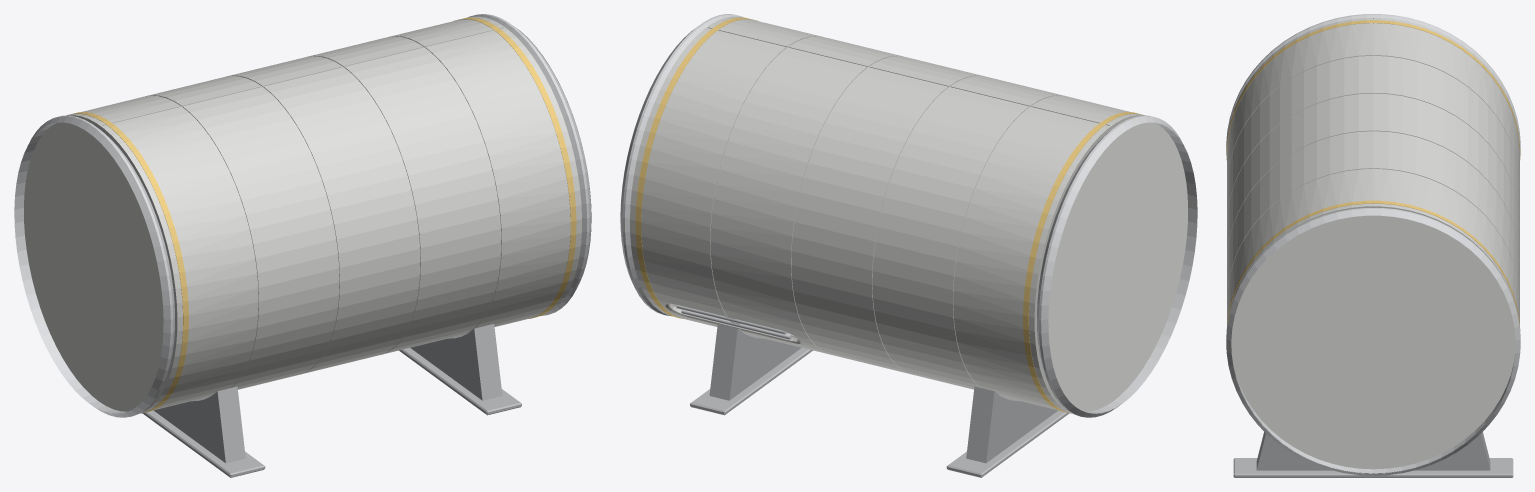
File: ax_tank_12_isru_lox_l_horizontal.glb
The picture shows the model from 3 angles, left to right: view 1: azimuth 30°, elevation 25°; view 2: azimuth 150°, elevation 25°; view 3: azimuth 270°, elevation 25°; orthographic projection. The views are drawn at different scales.
Visible parts, largest first — view 1: mli_blanket, dome_caps, saddles, end_rings, blanket_bands; view 2: mli_blanket, dome_caps, saddles, end_rings, blanket_bands, raceway_lines; view 3: dome_caps, mli_blanket, end_rings, saddles, blanket_bands.
Part boxes in pixels (<box>): mli_blanket: <box>67,16,581,413</box>; dome_caps: <box>24,122,163,411</box>; saddles: <box>142,324,521,477</box>; end_rings: <box>14,14,591,417</box>; blanket_bands: <box>66,17,576,413</box>; mli_blanket: <box>630,16,1144,413</box>; dome_caps: <box>671,122,1187,411</box>; saddles: <box>690,324,1069,477</box>; end_rings: <box>620,14,1197,417</box>; blanket_bands: <box>635,17,1145,413</box>; raceway_lines: <box>676,305,791,339</box>; dome_caps: <box>1231,215,1515,469</box>; mli_blanket: <box>1227,18,1519,324</box>; end_rings: <box>1226,14,1520,475</box>; saddles: <box>1233,432,1513,477</box>; blanket_bands: <box>1226,20,1520,329</box>.
Size of the model in its own units: 6 by 4.2 by 3.75.
